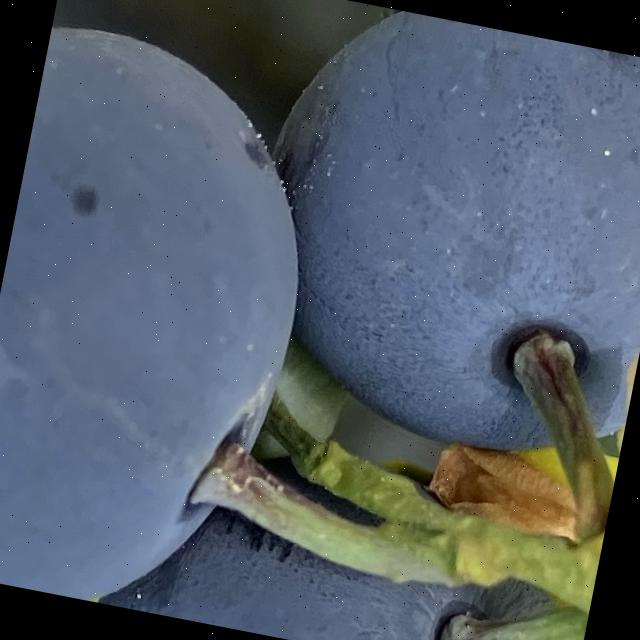Blueberries: (0, 9, 363, 633), (222, 0, 640, 499)
